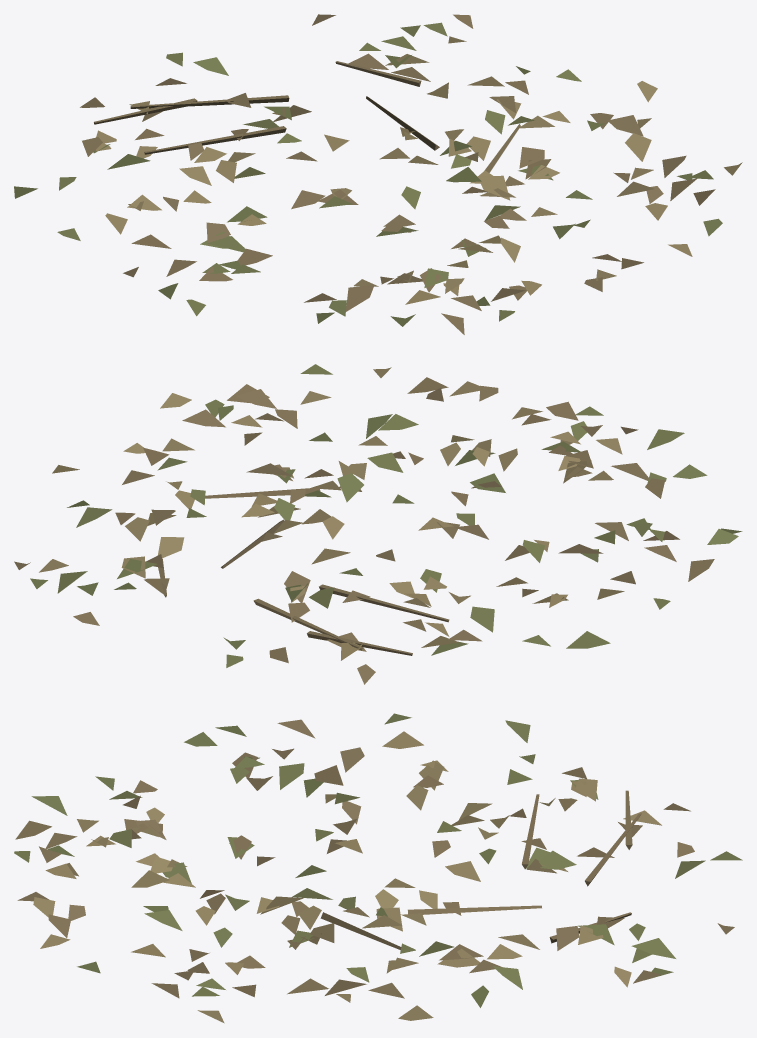
Rendered from litter-summer.glb.
The picture shows the model from 3 angles, top to bottom: view 1: azimuth 30°, elevation 25°; view 2: azimuth 150°, elevation 25°; view 3: azimuth 270°, elevation 25°; orthographic projection. The views are drawn at different scales.
Visible parts, largest first — view 1: understory_litter-summer_LOD0; view 2: understory_litter-summer_LOD0; view 3: understory_litter-summer_LOD0.
Boxes of the visible parts, <box> form: understory_litter-summer_LOD0: <box>14,14,742,334</box>; understory_litter-summer_LOD0: <box>14,364,742,684</box>; understory_litter-summer_LOD0: <box>14,713,742,1023</box>.
Size of the model in its own units: 3.28 by 0.1276 by 3.34.
